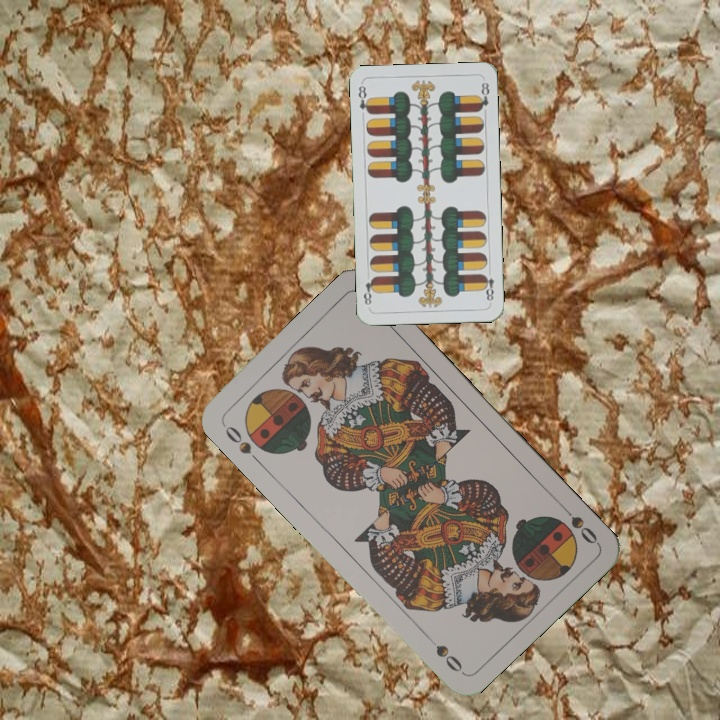E8: (479, 265, 496, 306), (354, 82, 373, 117)
SO: (555, 499, 601, 547), (218, 419, 263, 466)
